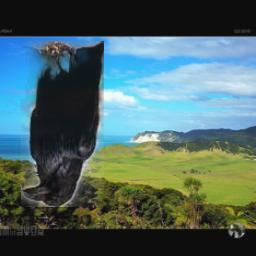Crow: (21, 41, 104, 207)
